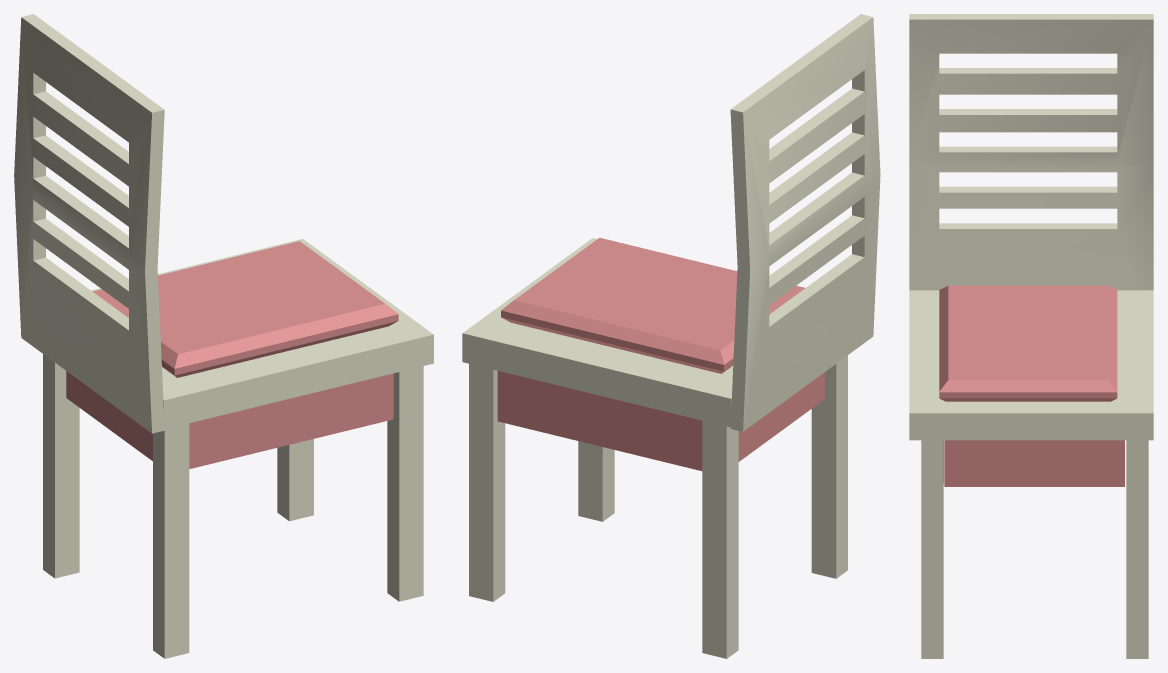
The model's file is Kitchen_Chair.fbx.
The picture shows the model from 3 angles, left to right: view 1: azimuth 30°, elevation 25°; view 2: azimuth 150°, elevation 25°; view 3: azimuth 270°, elevation 25°; orthographic projection. The views are drawn at different scales.
Visible parts, largest first — view 1: Chair_Combined; view 2: Chair_Combined; view 3: Chair_Combined.
Part boxes in pixels (x1,y1,x2,y2): Chair_Combined: (14, 14, 433, 658); Chair_Combined: (462, 14, 880, 658); Chair_Combined: (909, 14, 1153, 658).
Size of the model in its own units: 75.49 by 139 by 59.24.
